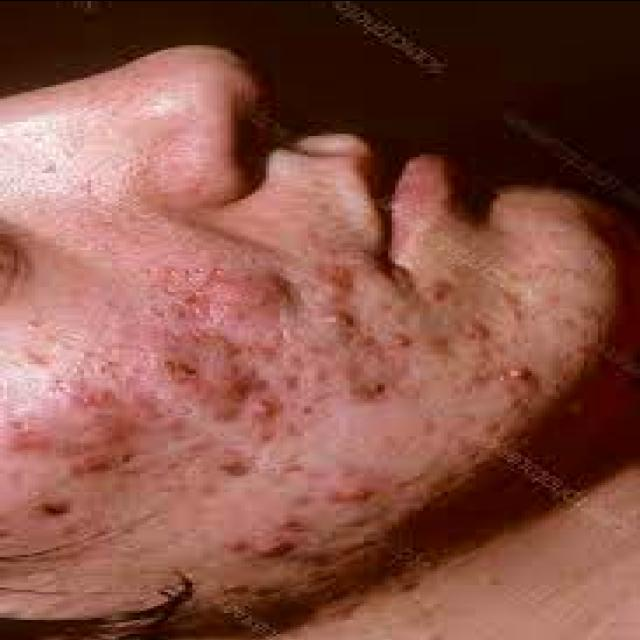Acne: (212, 272, 294, 328), (205, 362, 253, 422), (156, 353, 202, 385), (69, 450, 118, 480), (344, 377, 392, 405), (454, 312, 496, 344), (321, 484, 378, 507), (255, 534, 302, 560), (29, 495, 77, 520), (320, 306, 364, 332), (500, 360, 540, 386), (247, 396, 286, 421), (386, 328, 418, 353)
